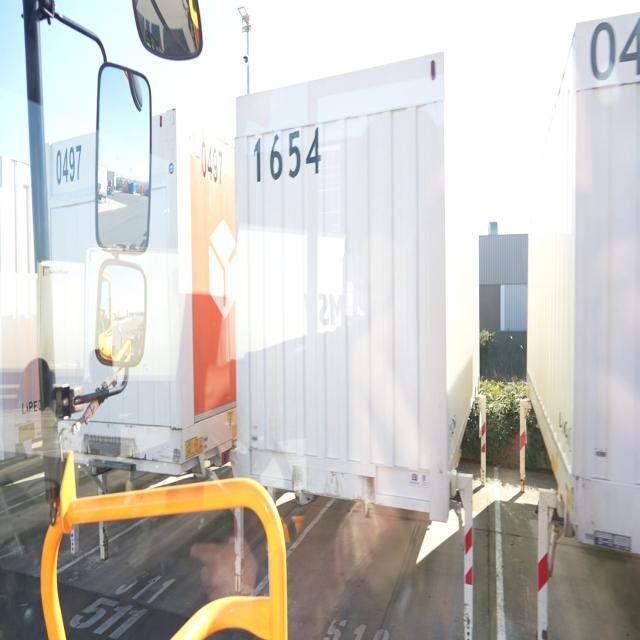Code: (251, 122, 323, 190), (54, 142, 85, 190)
